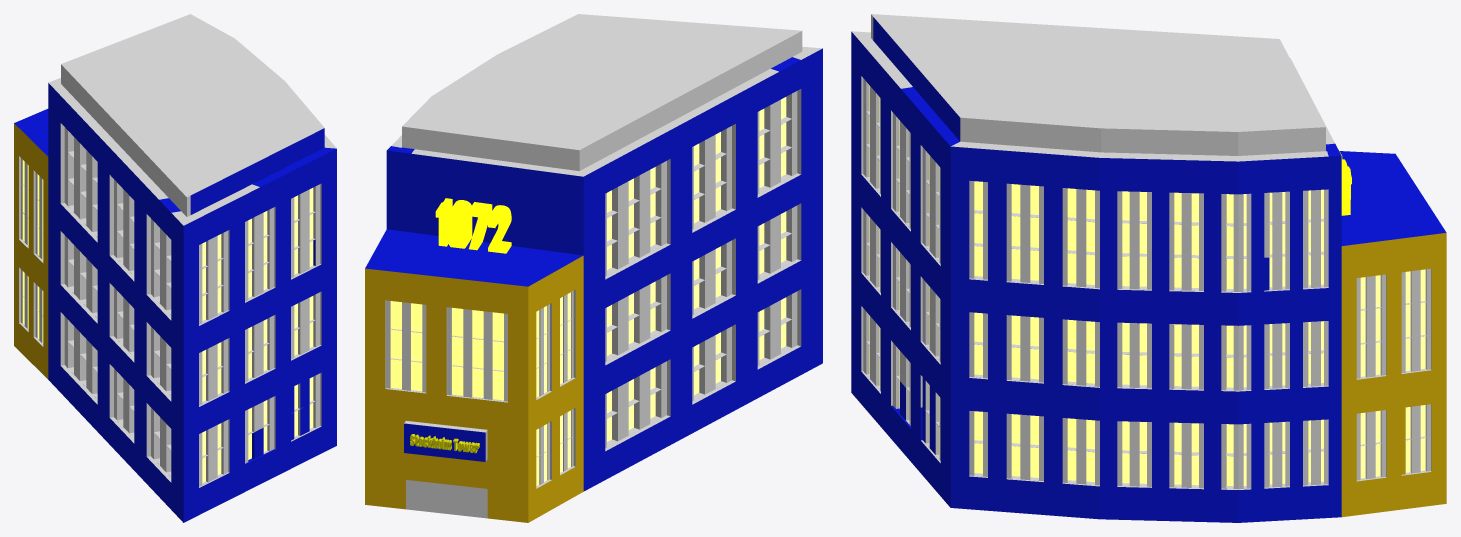
File: ABBA_tower.fbx
3 views of the same model, side by side, from view 1: azimuth 30°, elevation 25°; view 2: azimuth 150°, elevation 25°; view 3: azimuth 270°, elevation 25° (orthographic). The views are drawn at different scales.
Visible parts, largest first — view 1: Plane; view 2: Plane; view 3: Plane.
Part boxes in pixels (box(x1,y1,x2,y2)): Plane: box(14, 14, 336, 522); Plane: box(365, 14, 822, 522); Plane: box(851, 14, 1446, 522).
Bounding box in the file's own units: 464 × 640 × 896.
